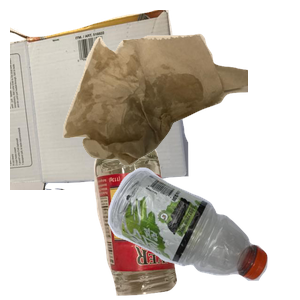cardboard: (10, 10, 191, 190)
glass: (91, 142, 260, 300)
plastic: (105, 165, 300, 300)
trash: (60, 31, 300, 189)
